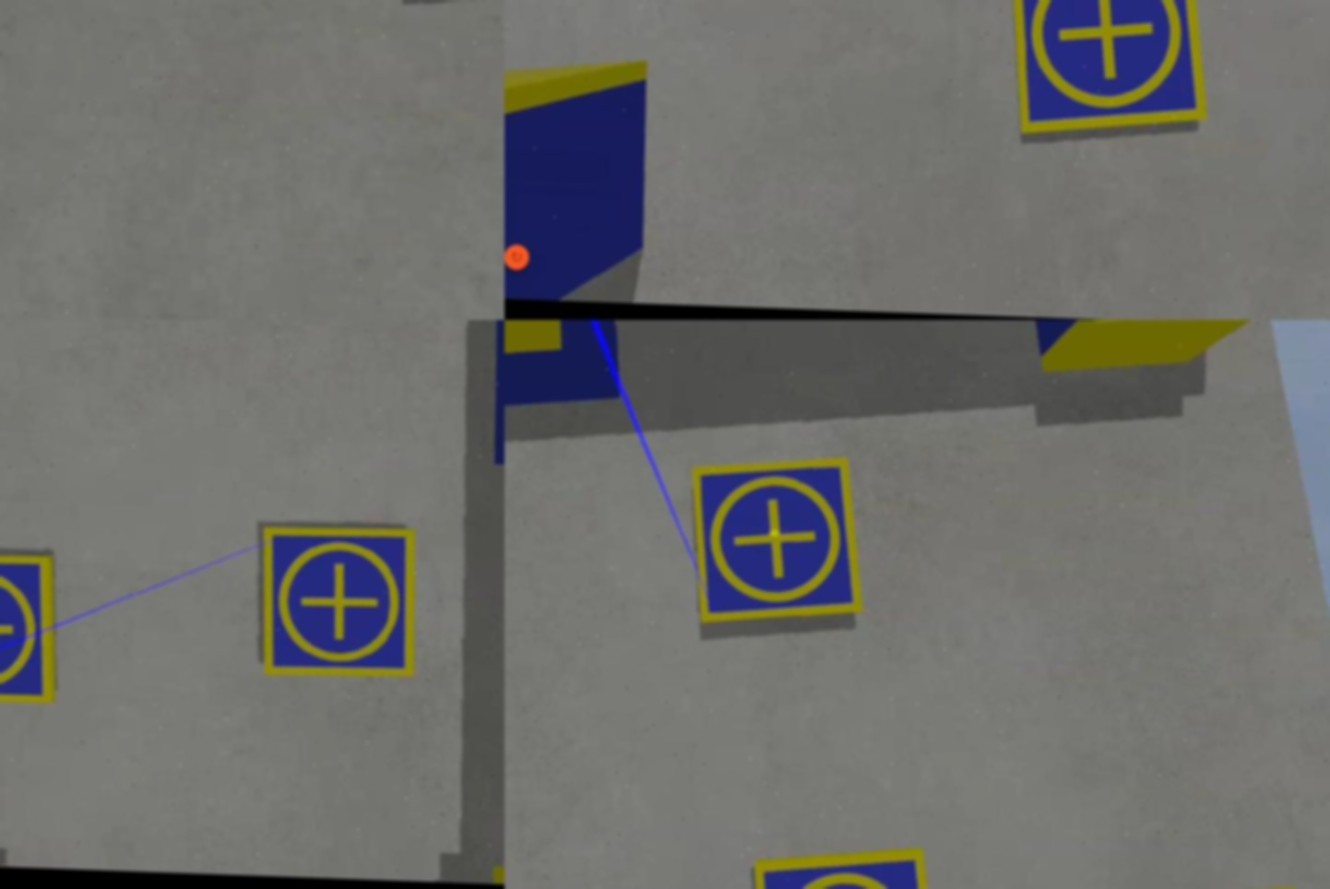small_base: (683, 450, 868, 635), (1001, 1, 1213, 150), (257, 527, 422, 683), (748, 839, 946, 889), (1, 550, 63, 709)
